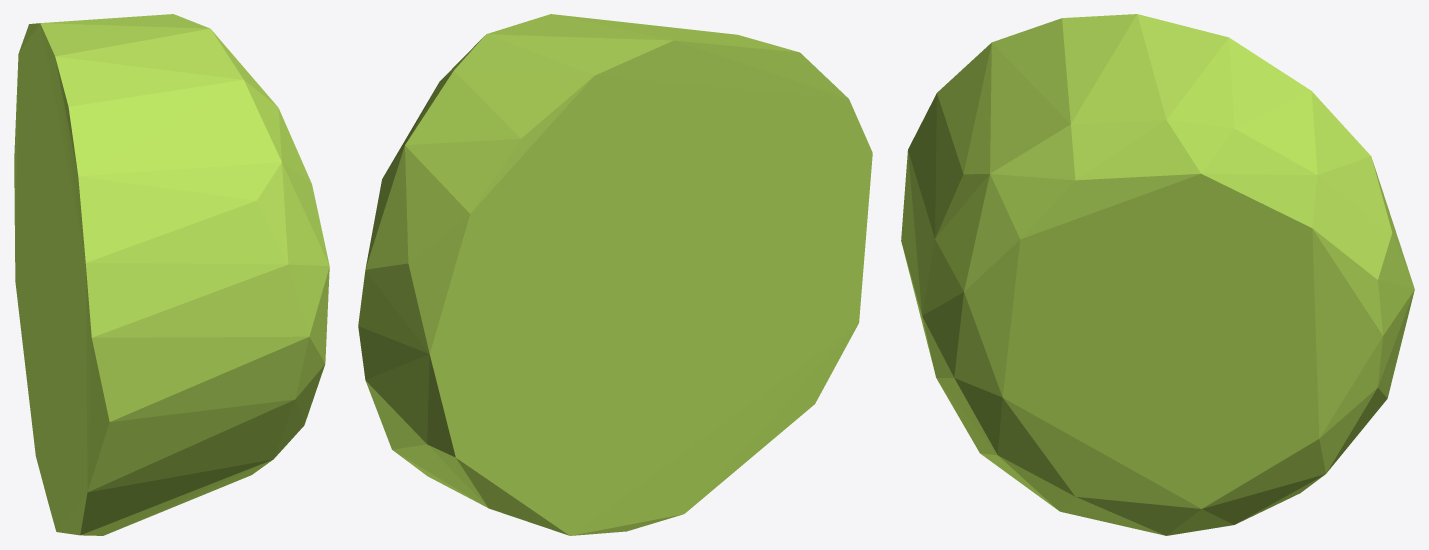
Rendered from industrial_06397_link_3_respondable_respondable_respondable_respondable_respondable_respondable_coll_3.dae.
3 views of the same model, side by side, from view 1: azimuth 30°, elevation 25°; view 2: azimuth 150°, elevation 25°; view 3: azimuth 270°, elevation 25° (orthographic). The views are drawn at different scales.
Visible parts, largest first — view 1: node; view 2: node; view 3: node.
Part boxes in pixels (box(x1,y1,x2,y2)): node: box(14, 14, 329, 535); node: box(358, 14, 872, 535); node: box(901, 14, 1414, 535).
Size of the model in its own units: 0.0492 by 0.0793 by 0.0797.
